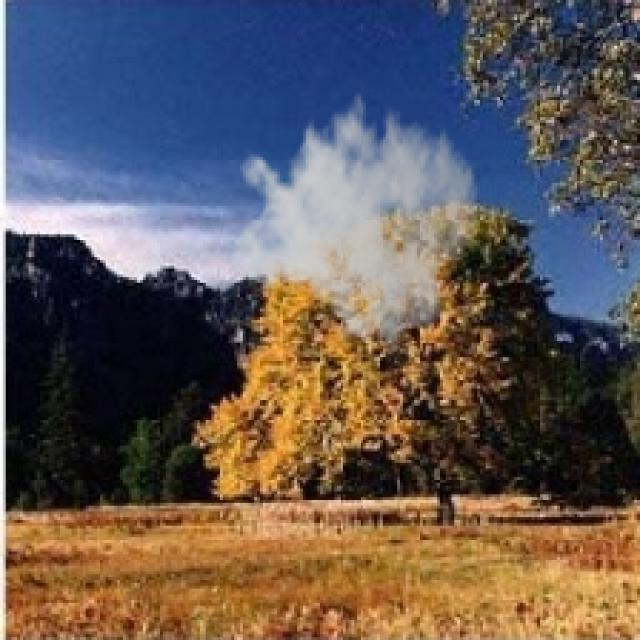Smoke: (228, 77, 481, 354)
